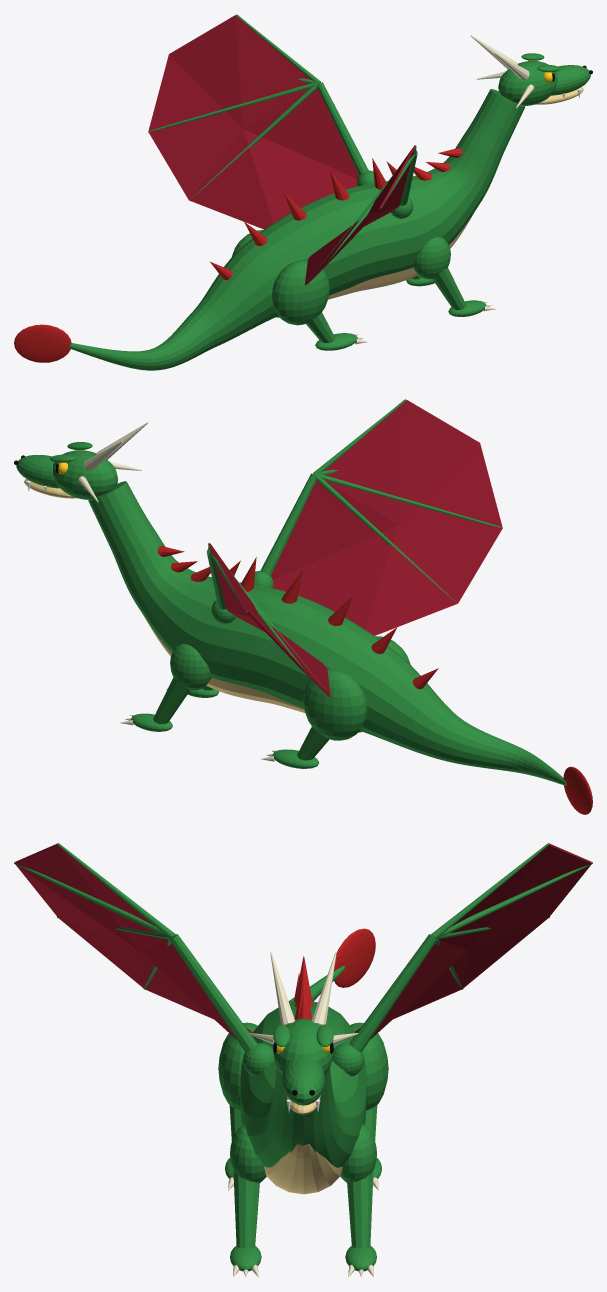
File: dragon.obj
3 views of the same model, one above another, from view 1: azimuth 30°, elevation 25°; view 2: azimuth 150°, elevation 25°; view 3: azimuth 270°, elevation 25° (orthographic). The views are drawn at different scales.
Visible parts, largest first — view 1: membrana_61, cuerpo_0, muslo_49, membrana_68, cola_punta_11, craneo_12, hombro_43, hueso_ala_56, vientre_1, hocico_13, antebrazo_44, hueso_ala_59 (+3 smaller); view 2: membrana_68, cuerpo_0, muslo_37, membrana_61, craneo_12, hombro_31, hueso_ala_63, vientre_1, cola_punta_11, hocico_13, antebrazo_32, hueso_ala_66 (+3 smaller); view 3: membrana_68, membrana_61, cuerpo_0, vientre_1, hueso_ala_56, hueso_ala_63, cola_punta_11, craneo_12, antebrazo_32, antebrazo_44, hocico_13, muslo_49 (+13 smaller).
Boxes of the visible parts, <box> form: membrana_61: <box>148,15,359,229</box>; cuerpo_0: <box>69,89,525,370</box>; muslo_49: <box>272,260,329,325</box>; membrana_68: <box>304,146,416,284</box>; cola_punta_11: <box>14,324,71,362</box>; craneo_12: <box>498,61,557,105</box>; hombro_43: <box>413,237,450,279</box>; hueso_ala_56: <box>317,82,368,175</box>; vientre_1: <box>328,212,474,299</box>; hocico_13: <box>551,65,590,95</box>; antebrazo_44: <box>433,267,466,310</box>; hueso_ala_59: <box>149,82,317,131</box>; membrana_68: <box>271,400,502,635</box>; cuerpo_0: <box>88,481,566,785</box>; muslo_37: <box>303,669,366,740</box>; membrana_61: <box>208,543,330,696</box>; craneo_12: <box>53,450,117,499</box>; hombro_31: <box>170,644,211,690</box>; hueso_ala_63: <box>260,473,316,576</box>; vientre_1: <box>144,616,305,712</box>; cola_punta_11: <box>563,766,592,814</box>; hocico_13: <box>16,455,59,488</box>; antebrazo_32: <box>153,677,189,724</box>; hueso_ala_66: <box>316,474,501,527</box>; membrana_68: <box>15,843,252,1039</box>; membrana_61: <box>355,843,591,1039</box>; cuerpo_0: <box>240,965,366,1167</box>; vientre_1: <box>264,1143,342,1194</box>; hueso_ala_56: <box>349,934,437,1052</box>; hueso_ala_63: <box>169,934,257,1052</box>; cola_punta_11: <box>334,928,375,987</box>; craneo_12: <box>273,1018,333,1074</box>; antebrazo_32: <box>347,1170,373,1247</box>; antebrazo_44: <box>233,1170,259,1247</box>; hocico_13: <box>282,1059,324,1105</box>; muslo_49: <box>218,1022,257,1110</box>.
Size of the model in its own units: 12.06 by 5.22 by 8.02.
